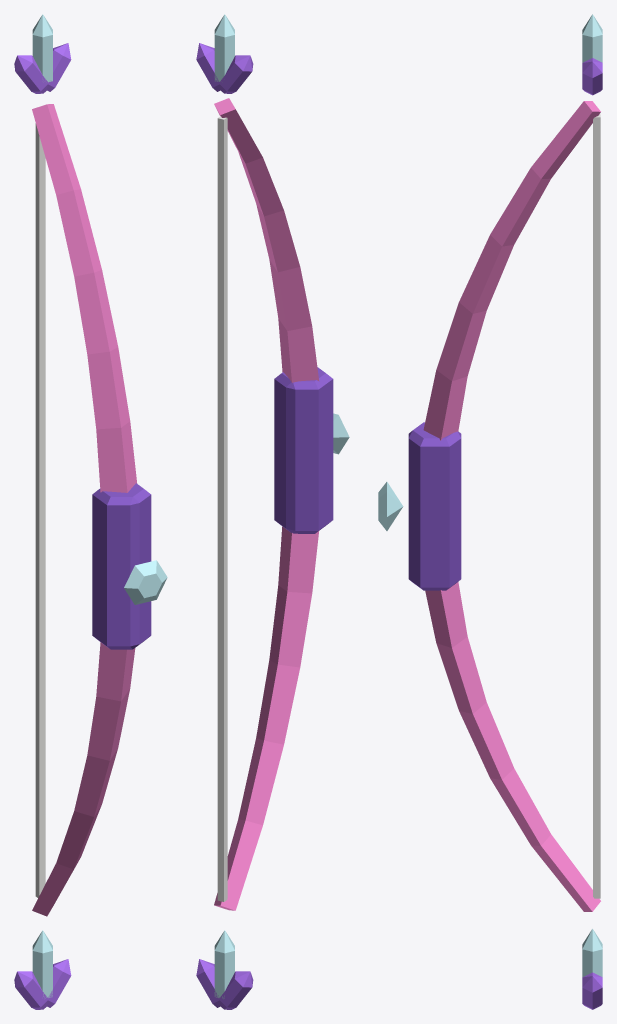
Rendered from CrystalBow.fbx.
3 renders of one model, left to right at view 1: azimuth 30°, elevation 25°; view 2: azimuth 150°, elevation 25°; view 3: azimuth 270°, elevation 25°, orthographic.
Visible parts, largest first — view 1: CrystalBow; view 2: CrystalBow; view 3: CrystalBow.
Part boxes in pixels (x1,y1,x2,y2): CrystalBow: (14, 14, 167, 1009); CrystalBow: (196, 14, 349, 1009); CrystalBow: (378, 14, 602, 1009).
Bounding box in the file's own units: 0.3025 × 5.21 × 1.07.
1 material, 1 textured.
